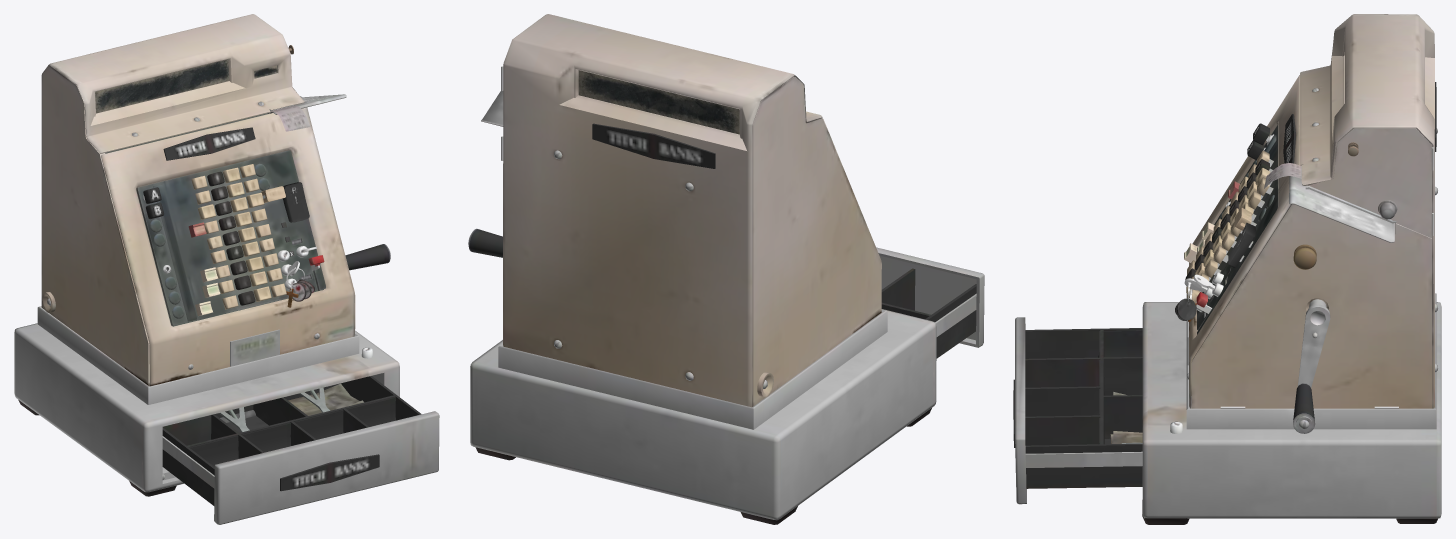
The model's file is CashRegister_01.22db0eae.glb.
The picture shows the model from 3 angles, left to right: view 1: azimuth 30°, elevation 25°; view 2: azimuth 150°, elevation 25°; view 3: azimuth 270°, elevation 25°; orthographic projection. The views are drawn at different scales.
Parts seen in each view (by area): view 1: CashRegister_01_body, CashRegister_011_drawer; view 2: CashRegister_01_body, CashRegister_011_drawer; view 3: CashRegister_01_body, CashRegister_011_drawer.
Boxes of the visible parts, x1,y1,x2,y2 form: CashRegister_01_body: [14, 14, 399, 496]; CashRegister_011_drawer: [162, 376, 439, 524]; CashRegister_01_body: [468, 14, 936, 524]; CashRegister_011_drawer: [876, 247, 984, 358]; CashRegister_01_body: [1142, 14, 1441, 524]; CashRegister_011_drawer: [1013, 317, 1142, 504].
Bounding box in the file's own units: 0.6927 × 0.7165 × 0.72.
Materials: 2 (2 with a texture image).
